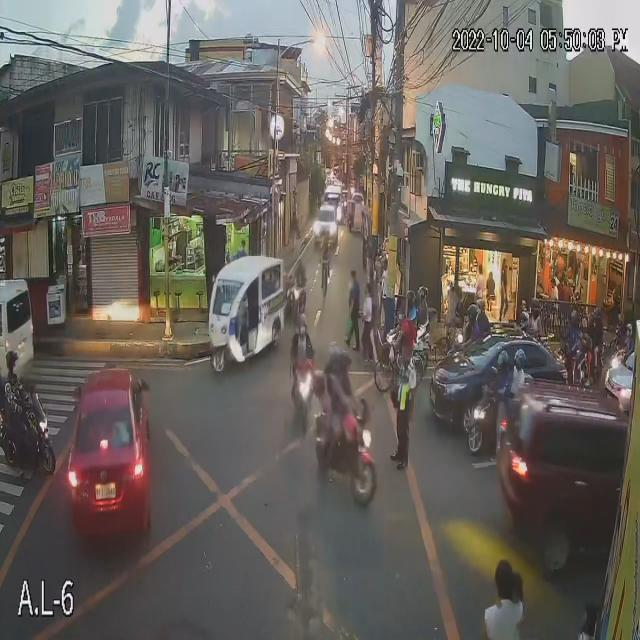helmet: (336, 348, 362, 378), (322, 353, 344, 382), (2, 351, 26, 376), (490, 350, 508, 379), (295, 311, 312, 341), (400, 287, 418, 308), (565, 307, 585, 323), (514, 346, 529, 367), (465, 300, 477, 324), (517, 306, 532, 325), (417, 285, 431, 304), (474, 296, 488, 314), (531, 300, 540, 315)
motorcycle: (310, 407, 380, 495), (0, 391, 55, 479), (281, 357, 315, 440), (382, 320, 433, 371)
rider: (0, 338, 36, 429), (306, 345, 344, 425), (337, 344, 364, 439), (290, 307, 320, 383), (484, 340, 512, 403), (464, 293, 491, 350), (521, 293, 548, 346), (508, 345, 536, 396), (559, 305, 581, 353), (402, 280, 418, 327), (510, 309, 528, 350), (462, 305, 479, 341), (418, 282, 430, 322)
